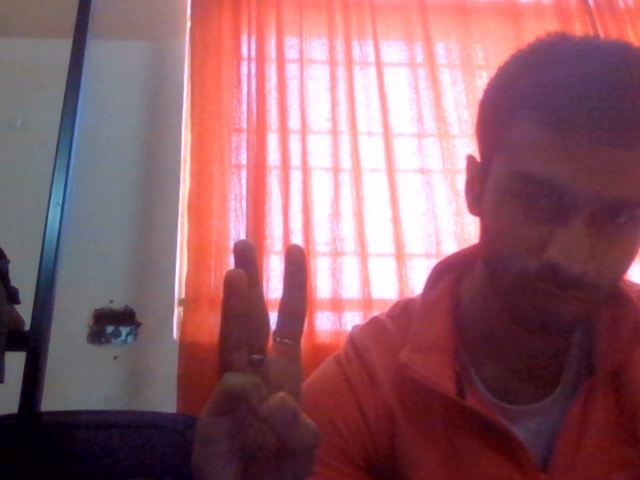W: (145, 209, 356, 480)
